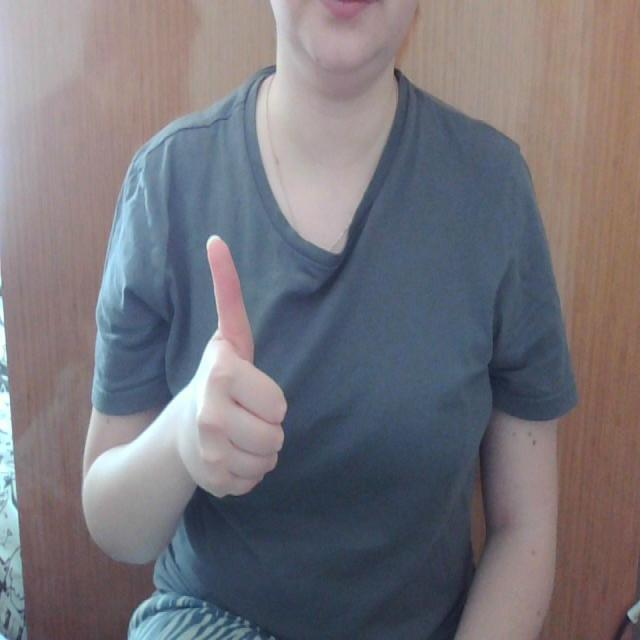Tamam: (186, 229, 291, 503)
